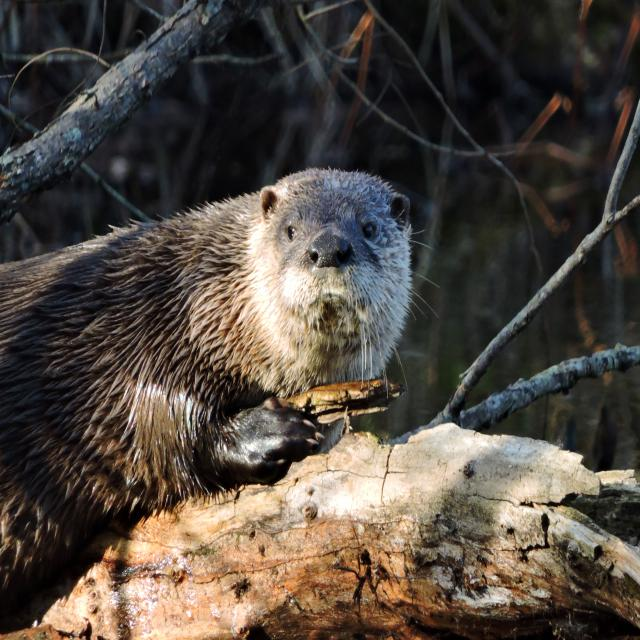otter: (4, 172, 410, 482)
